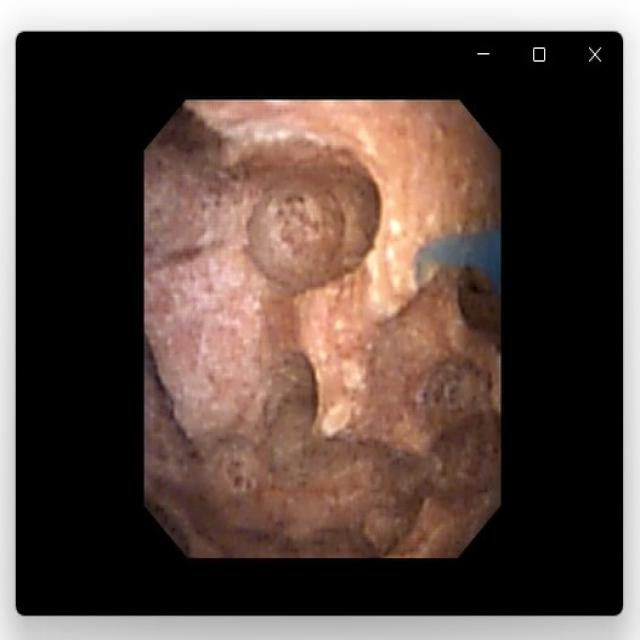fiber: (416, 236, 497, 280)
stone: (151, 106, 496, 551)
